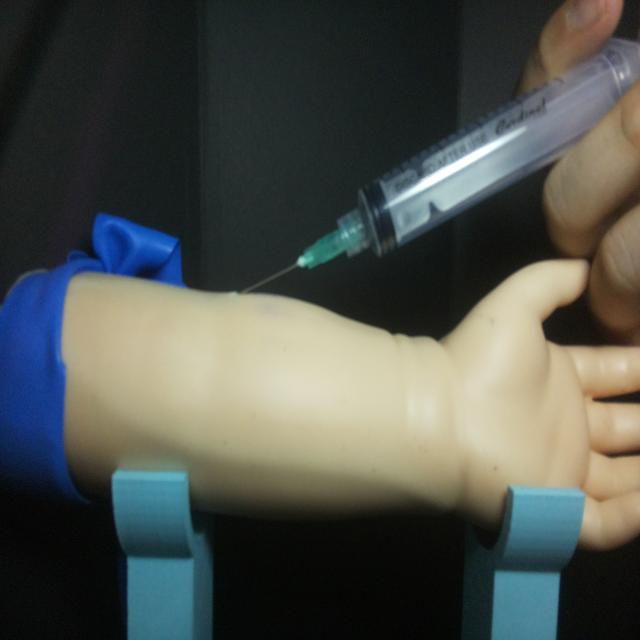19deg: (233, 32, 637, 297)
